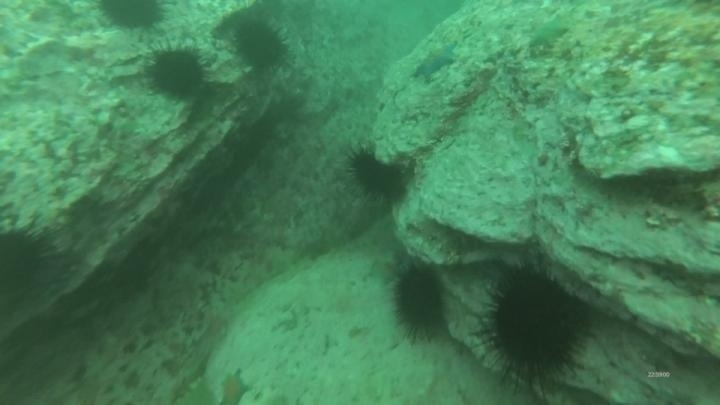echinus: (475, 260, 596, 390), (388, 260, 450, 341), (0, 219, 56, 297), (144, 42, 210, 102), (346, 145, 410, 204), (231, 17, 291, 72), (95, 1, 168, 34)
starfish: (411, 39, 460, 82), (525, 17, 571, 52), (365, 249, 404, 287), (216, 367, 252, 405)
